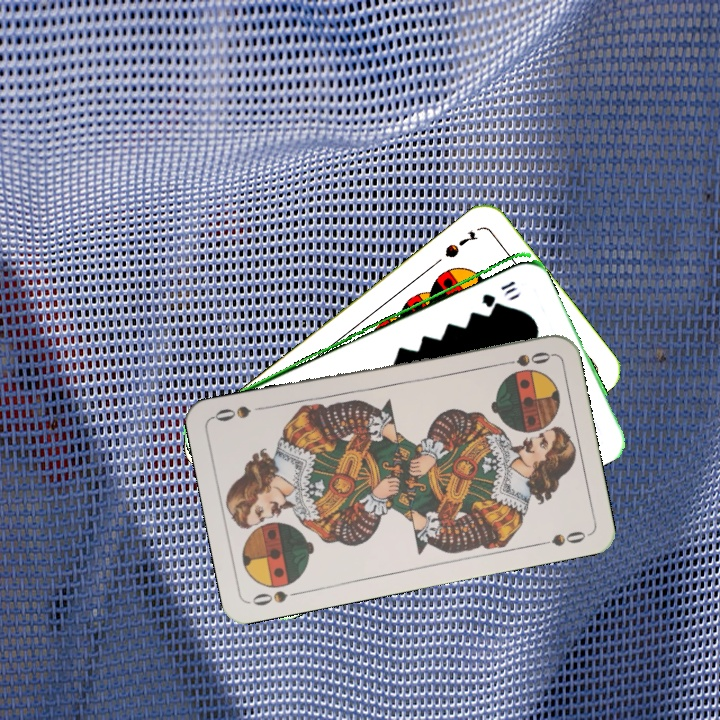G10: (477, 277, 518, 307)
S7: (440, 226, 481, 261)
SO: (495, 347, 554, 369), (248, 587, 305, 609)
